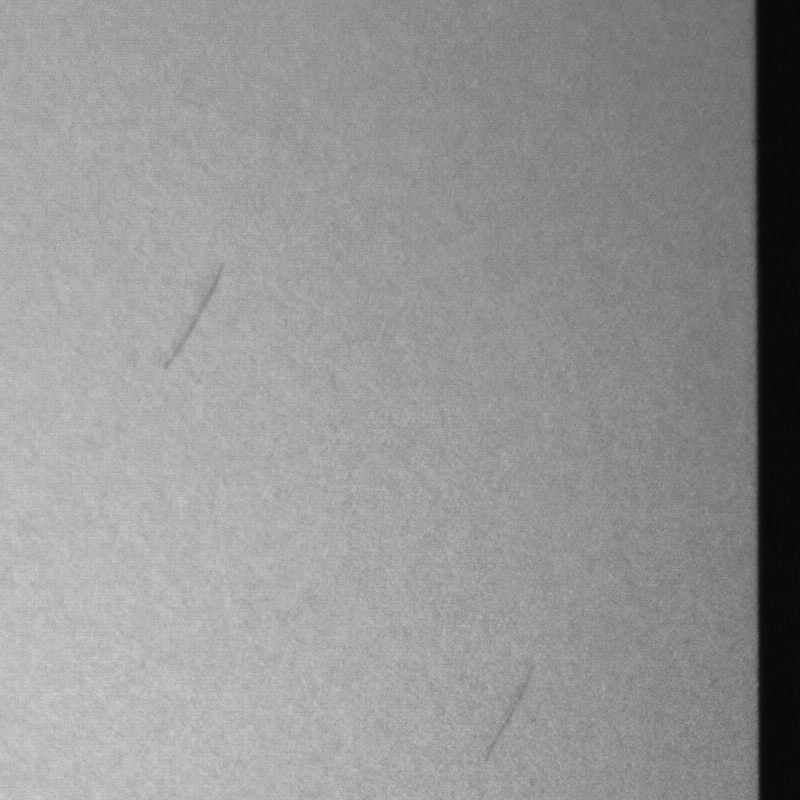defect: (162, 266, 223, 374), (483, 670, 528, 766)
